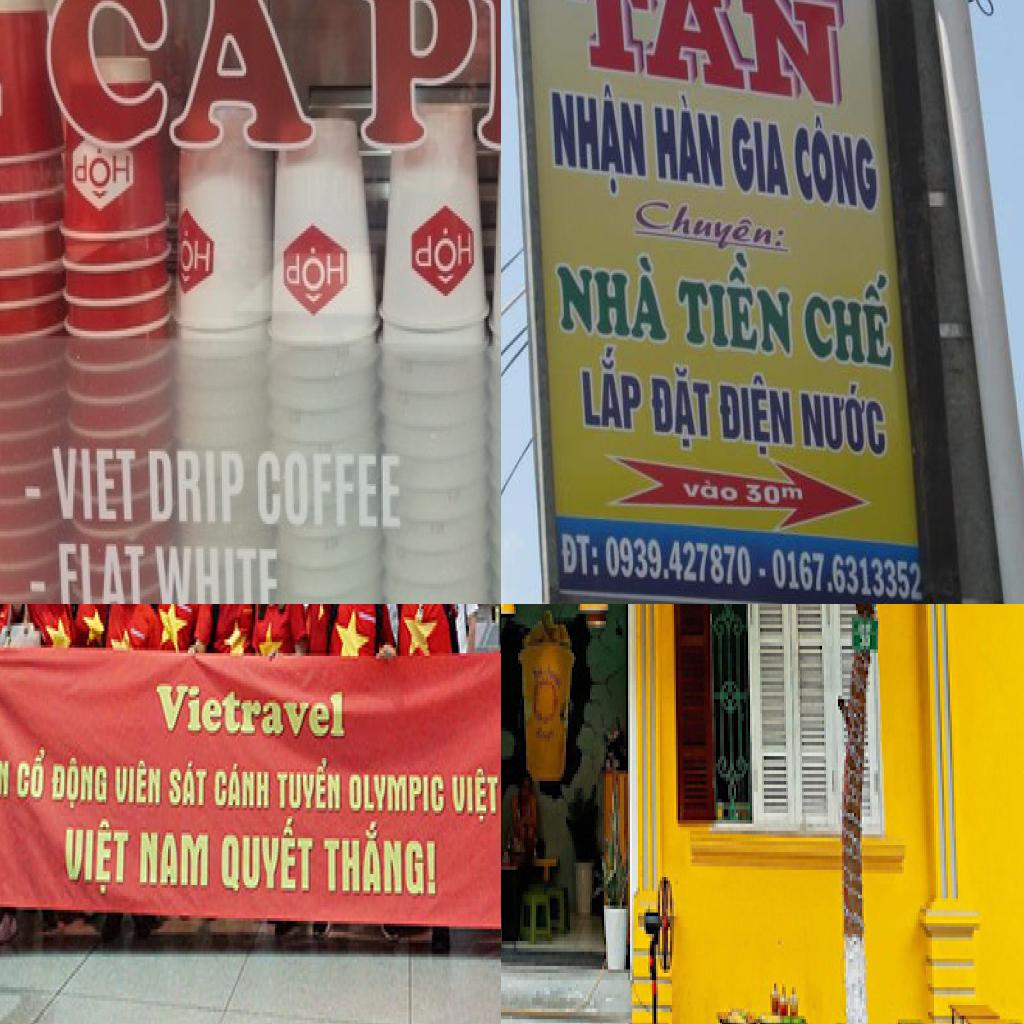text: (47, 0, 314, 163), (544, 0, 858, 114), (355, 0, 501, 166), (258, 444, 407, 541), (674, 249, 796, 362), (542, 74, 654, 196), (552, 236, 676, 346), (156, 678, 350, 742), (801, 260, 902, 378), (37, 429, 140, 529), (320, 822, 441, 907), (605, 526, 755, 594), (145, 436, 248, 532), (792, 111, 882, 215), (150, 536, 287, 604), (631, 198, 798, 253), (218, 818, 315, 902), (651, 92, 729, 196), (797, 376, 890, 462), (644, 355, 718, 454), (573, 342, 647, 436), (717, 376, 797, 462), (730, 104, 798, 205), (61, 814, 132, 904), (49, 541, 150, 604), (134, 827, 213, 899), (346, 769, 448, 822), (408, 221, 478, 288), (284, 236, 348, 306), (275, 758, 345, 822), (50, 747, 111, 813), (71, 144, 133, 204), (214, 761, 274, 819), (448, 769, 501, 829), (556, 520, 602, 586), (174, 221, 215, 288), (110, 761, 164, 810), (16, 744, 53, 805), (743, 478, 809, 509), (678, 475, 740, 507), (168, 764, 210, 810)
